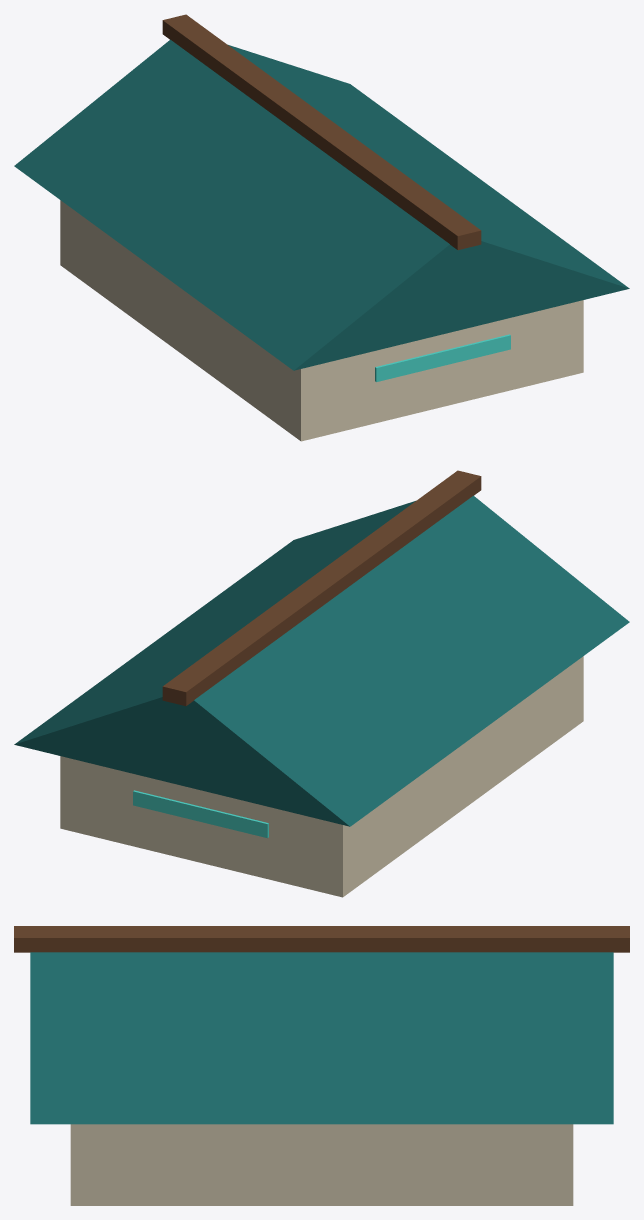
Rendered from k1_memory.obj.
3 renders of one model, top to bottom at view 1: azimuth 30°, elevation 25°; view 2: azimuth 150°, elevation 25°; view 3: azimuth 270°, elevation 25°, orthographic. The views are drawn at different scales.
Visible parts, largest first — view 1: k1_memory; view 2: k1_memory; view 3: k1_memory.
Boxes of the visible parts, x1,y1,x2,y2 form: k1_memory: [14, 14, 629, 441]; k1_memory: [14, 470, 629, 897]; k1_memory: [14, 926, 629, 1205].
Bounding box in the file's own units: 0.5 × 0.275 × 0.76.
